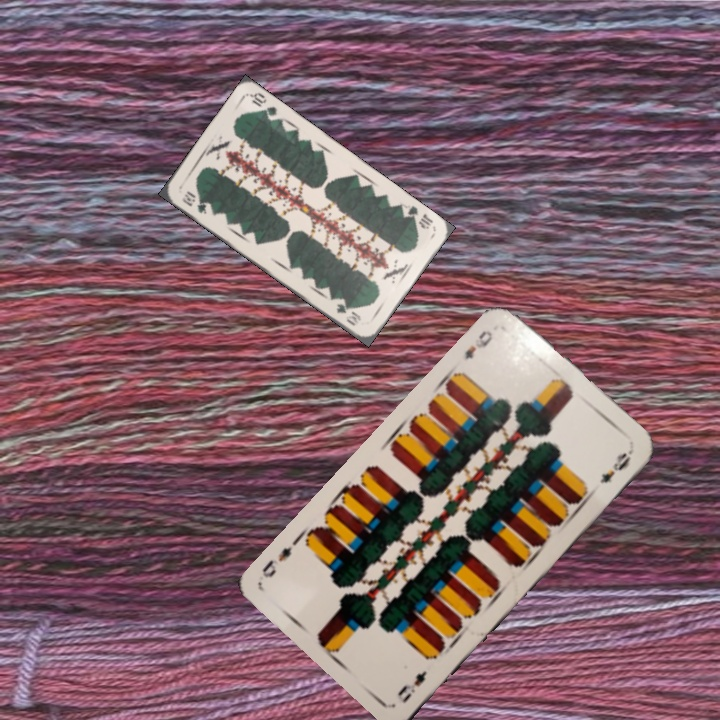E9: (393, 666, 430, 706), (460, 326, 495, 362)
G10: (398, 201, 436, 232), (178, 187, 209, 217)
